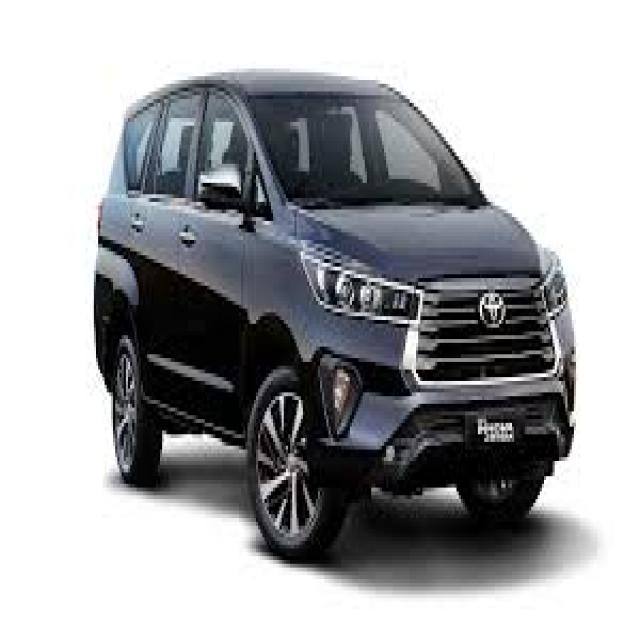light_vehicle: (92, 67, 577, 564)
